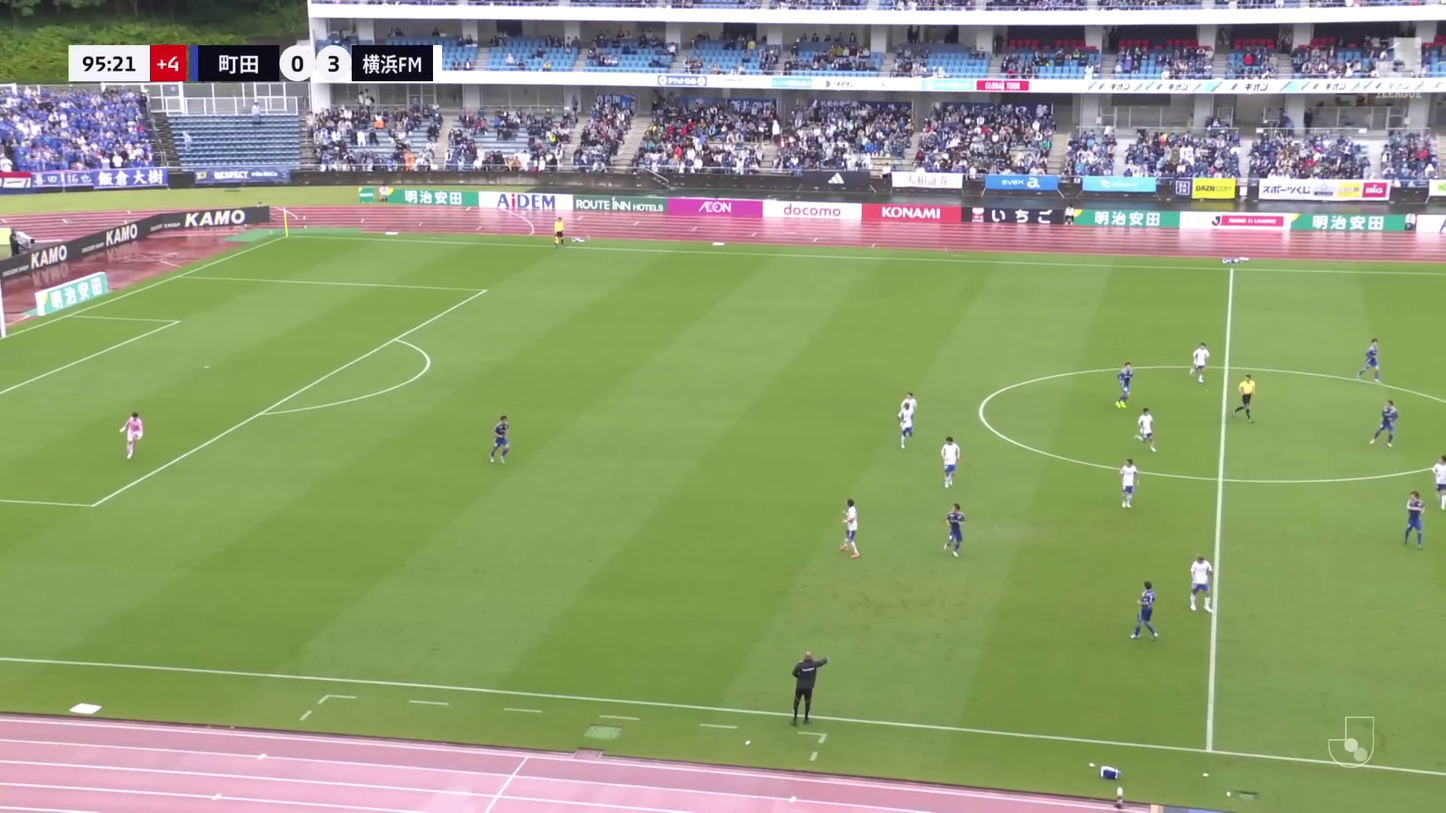ball: (133, 431, 142, 442)
player: (1128, 579, 1161, 642), (1186, 554, 1217, 614), (1368, 399, 1402, 449), (1400, 490, 1428, 549), (837, 498, 864, 559), (941, 502, 968, 559), (894, 391, 919, 450), (117, 411, 146, 461), (938, 435, 964, 490), (1355, 338, 1385, 384), (487, 414, 514, 465), (1117, 457, 1142, 510), (1133, 407, 1160, 454), (1112, 361, 1137, 409), (1187, 341, 1213, 384), (1429, 454, 1446, 515)
referee: (1230, 373, 1259, 423), (551, 214, 569, 249)
